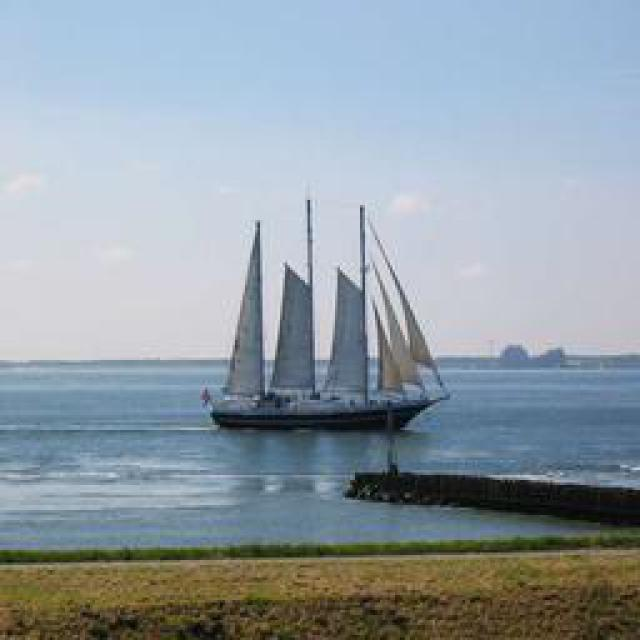Ship: (210, 190, 448, 433)
